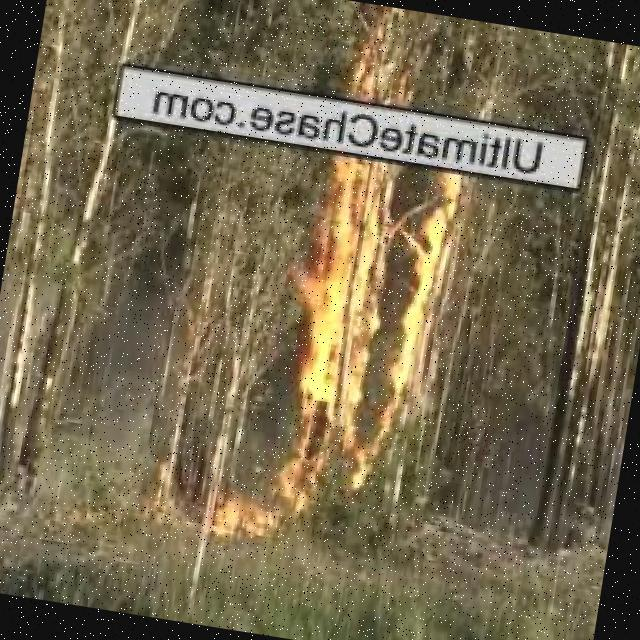Fire: (276, 153, 471, 497), (333, 24, 422, 110), (191, 491, 303, 550)
